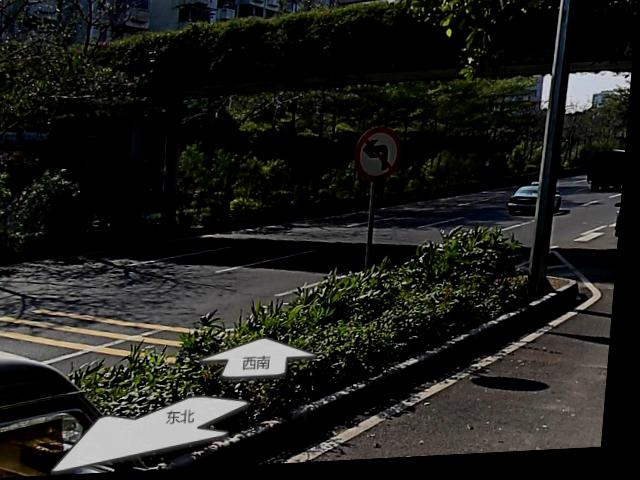not_turn_left: (349, 125, 407, 187)
